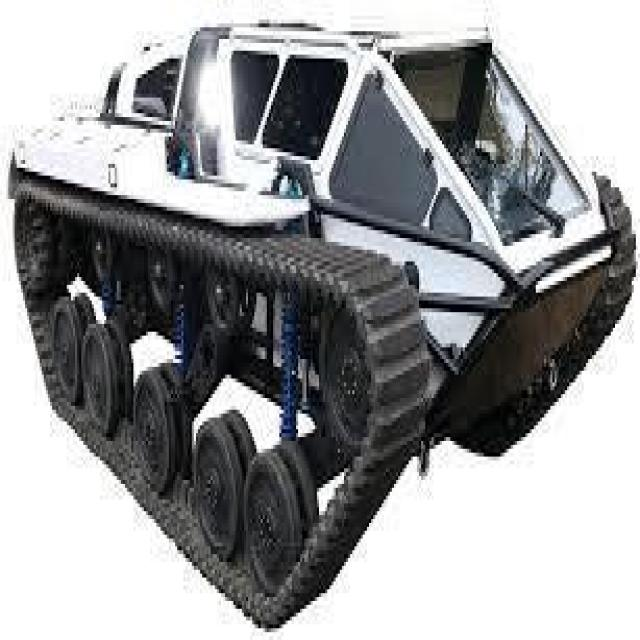Tanks: (8, 20, 636, 632)
